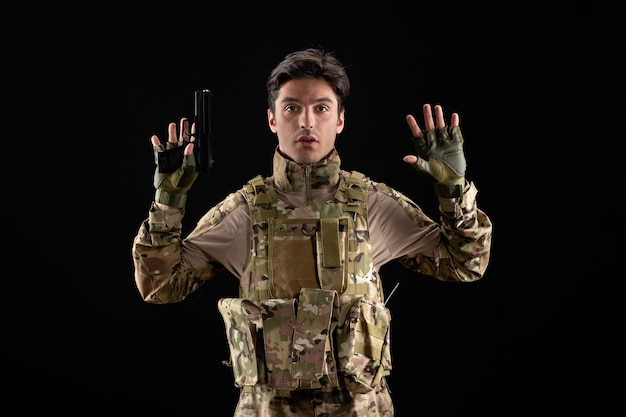gun: (157, 87, 214, 172)
